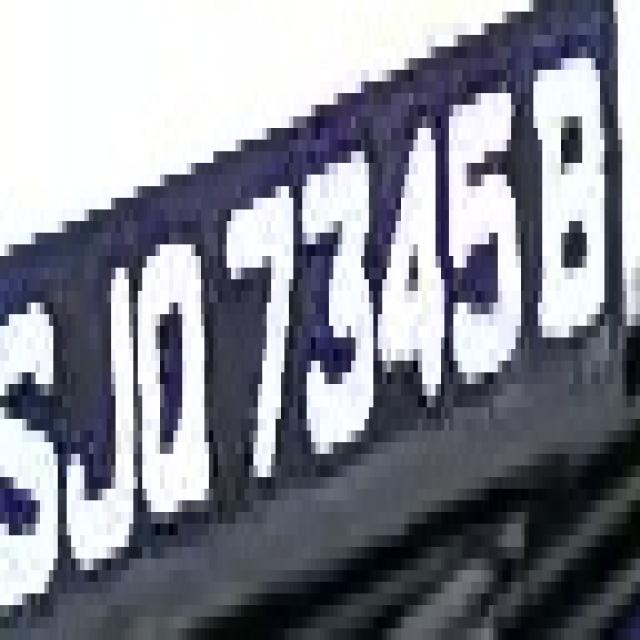3: (298, 128, 382, 489)
4: (369, 82, 449, 442)
5: (436, 58, 524, 407)
7: (222, 140, 311, 488)
B: (520, 35, 609, 361)
J: (76, 186, 142, 559)
Q: (138, 210, 226, 536)
S: (4, 268, 66, 616)
